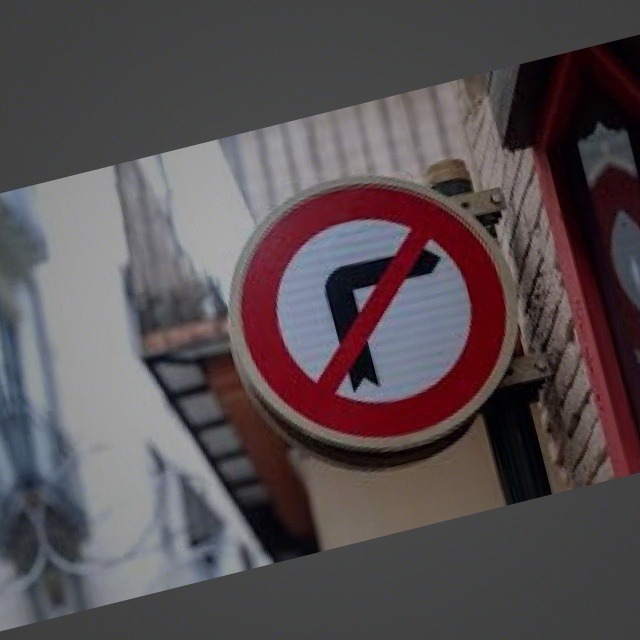Right_Turn_Prohibited: (205, 147, 542, 494)
